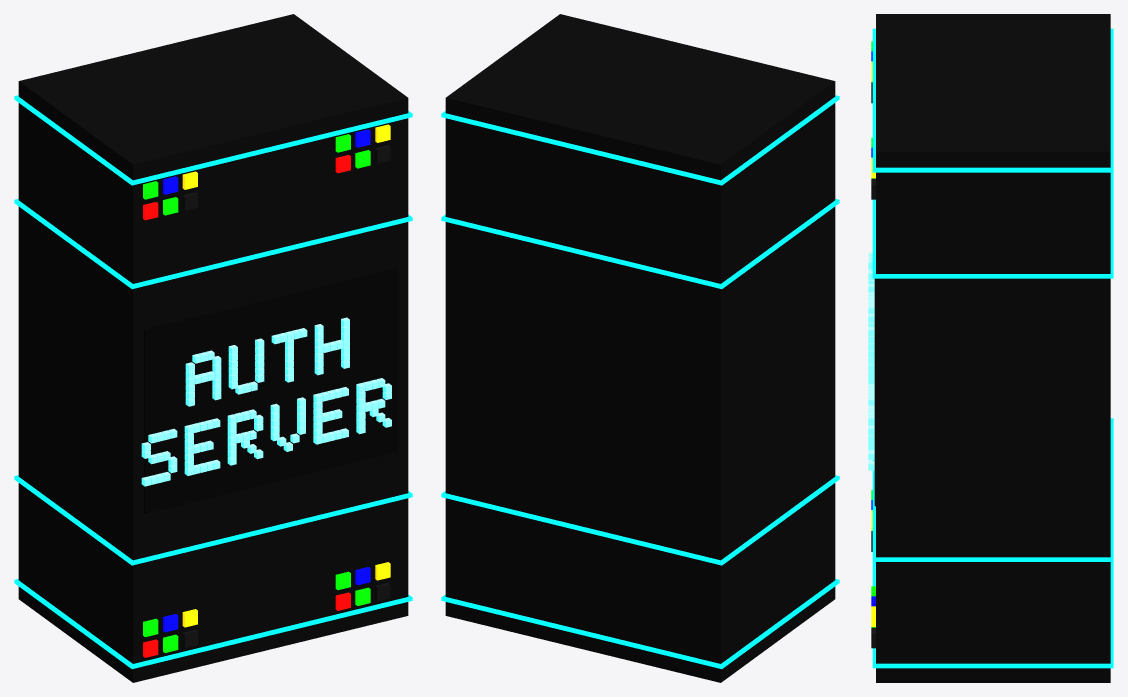
File: auth-server.glb
The picture shows the model from 3 angles, left to right: view 1: azimuth 30°, elevation 25°; view 2: azimuth 150°, elevation 25°; view 3: azimuth 270°, elevation 25°; orthographic projection. The views are drawn at different scales.
Size of the model in its own units: 2.55 by 4.5 by 1.89.
